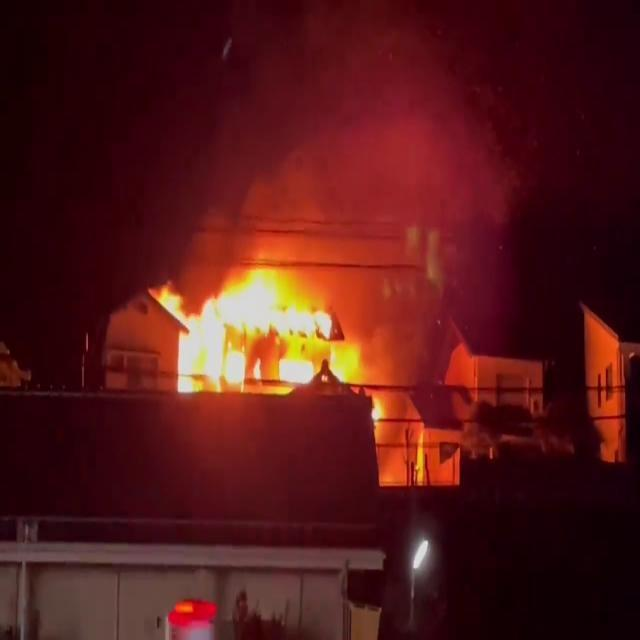Fire: (147, 256, 369, 401)
Smoke: (193, 0, 570, 324)
